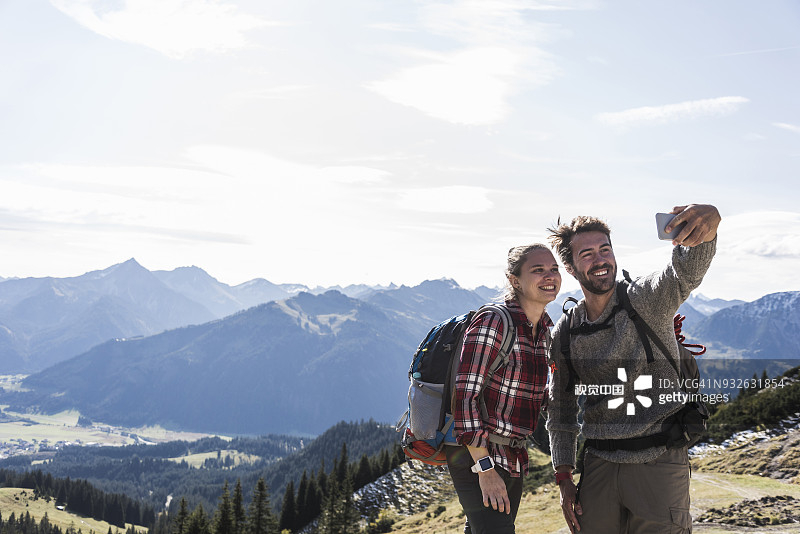no-phone: (466, 458, 516, 514), (548, 471, 590, 534)
taking photos: (641, 190, 730, 259)
